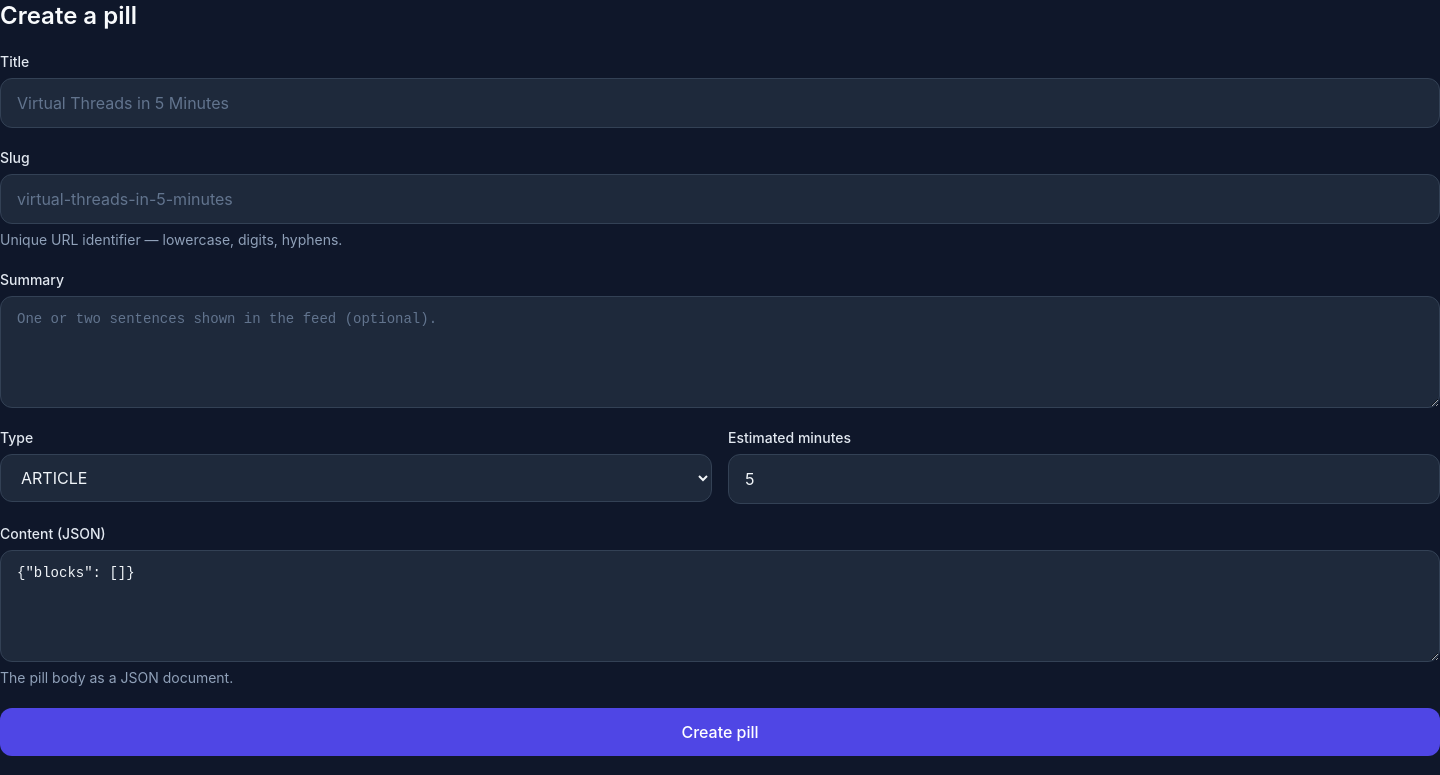
Test: CreatePillPage › shows a generic problem banner for other API failures
The image size is (1440, 775).
Type "Sealed Interfaces 101" into the field labelled "Title".
click(720, 103); type("Sealed Interfaces 101")  # box top-left (0, 78), bottom-right (1439, 128)
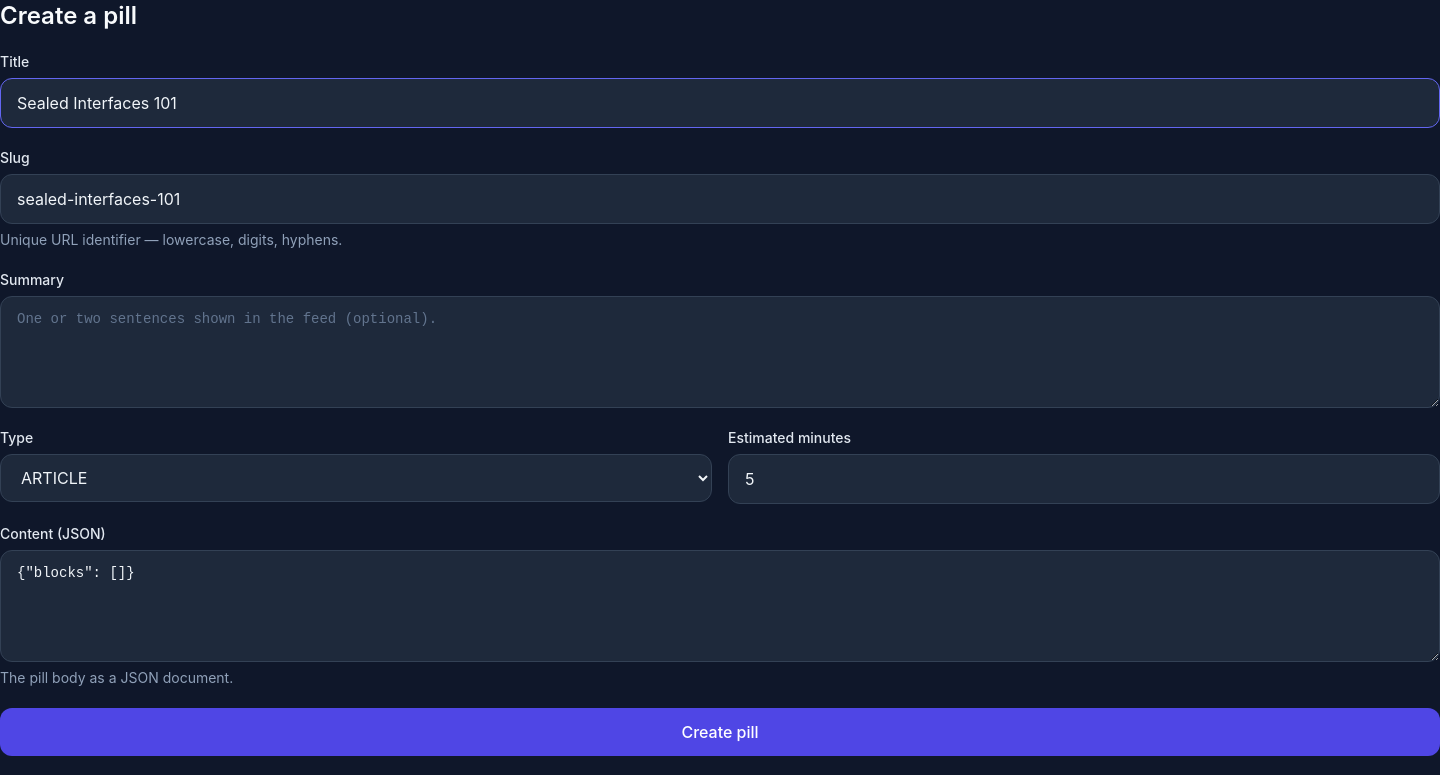
Replace the text in the number field labelled "Estimated minutes" with "4" at (1084, 479), box top-left (728, 454), bottom-right (1439, 504)
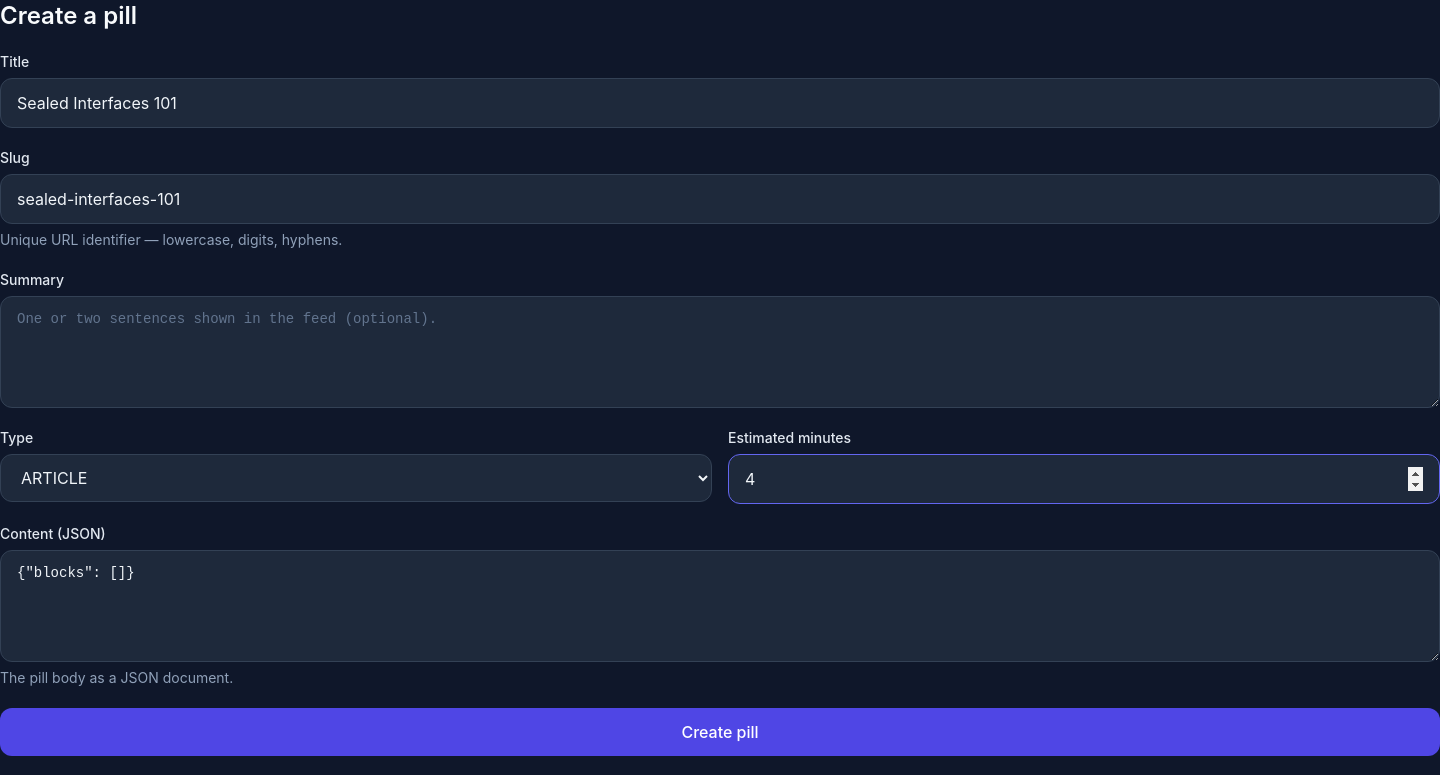
Select "FLASHCARD" in the dropdown labelled "Type" at (356, 478), box top-left (0, 454), bottom-right (712, 502)
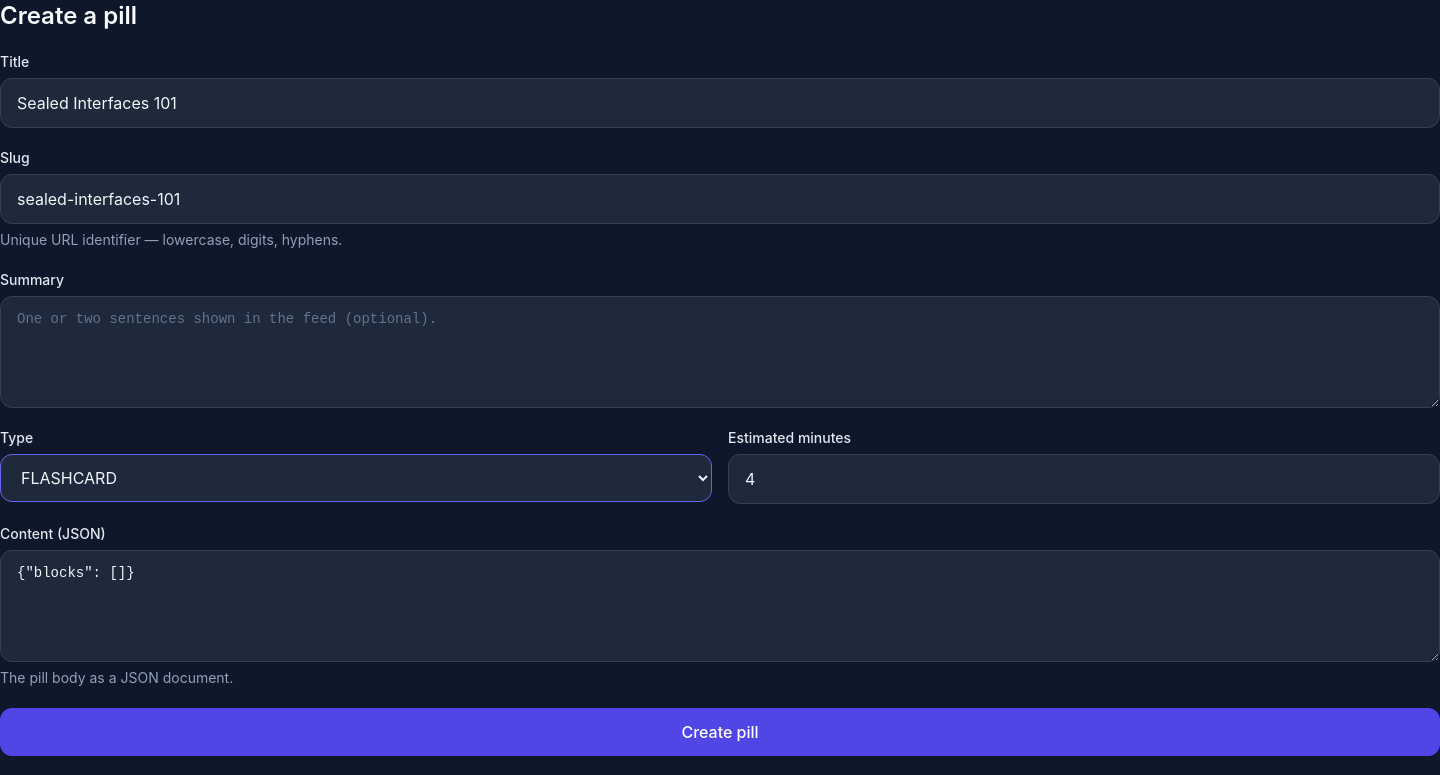
Type "Closed hierarchies." into the text box labelled "Summary".
click(720, 352); type("Closed hierarchies.")  # box top-left (0, 296), bottom-right (1439, 408)
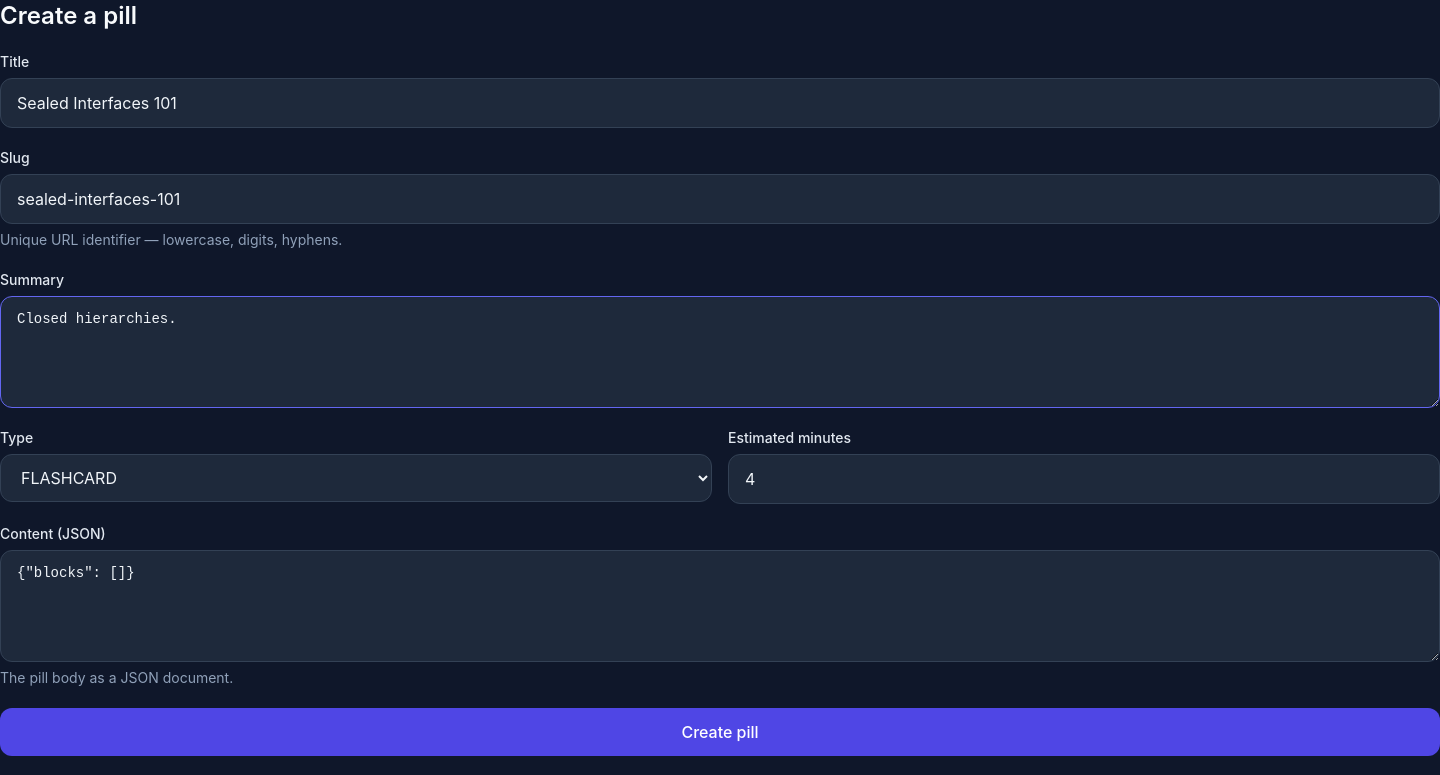
Click the button "Create pill".
click(720, 732)  # box top-left (0, 708), bottom-right (1439, 756)
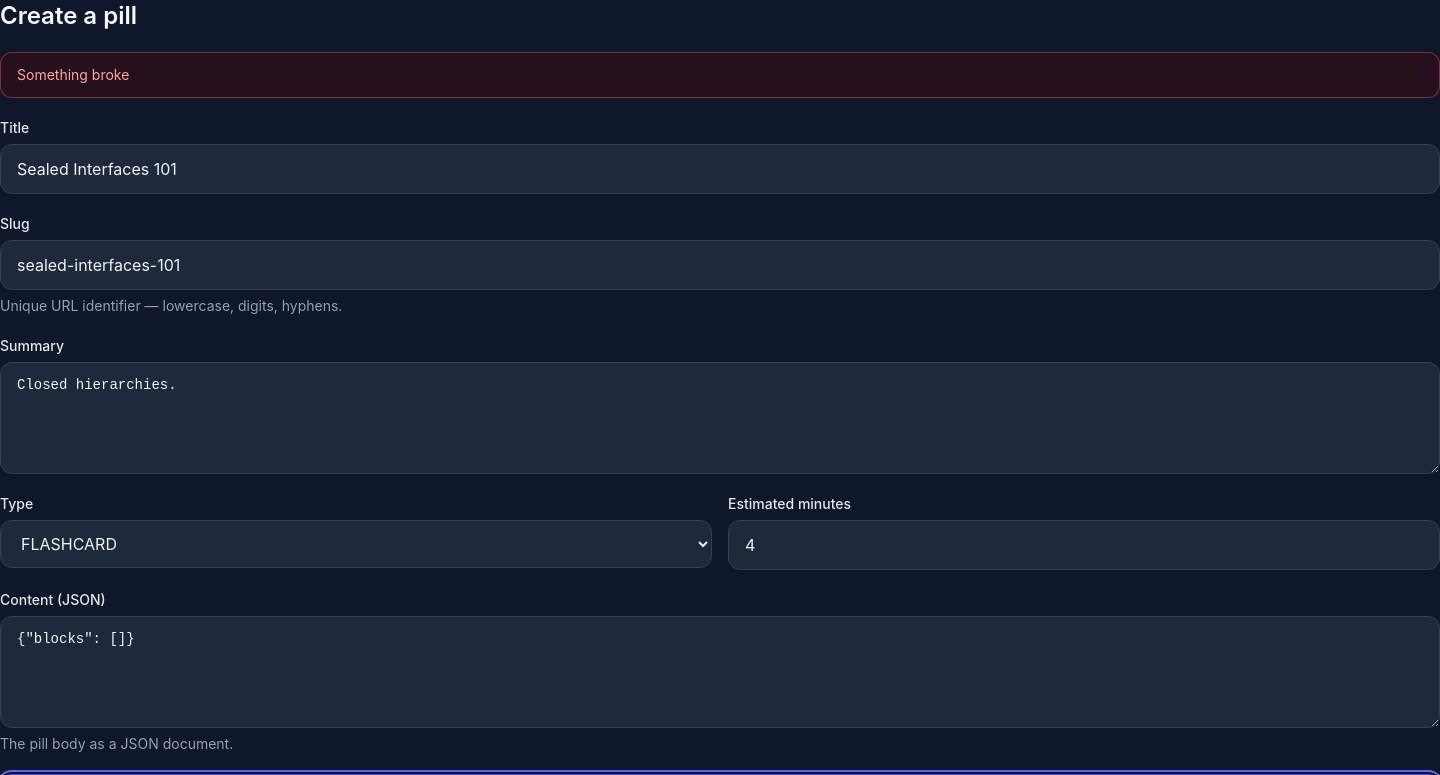
Check: the message reads "Something broke", box top-left (17, 66), bottom-right (129, 83)
